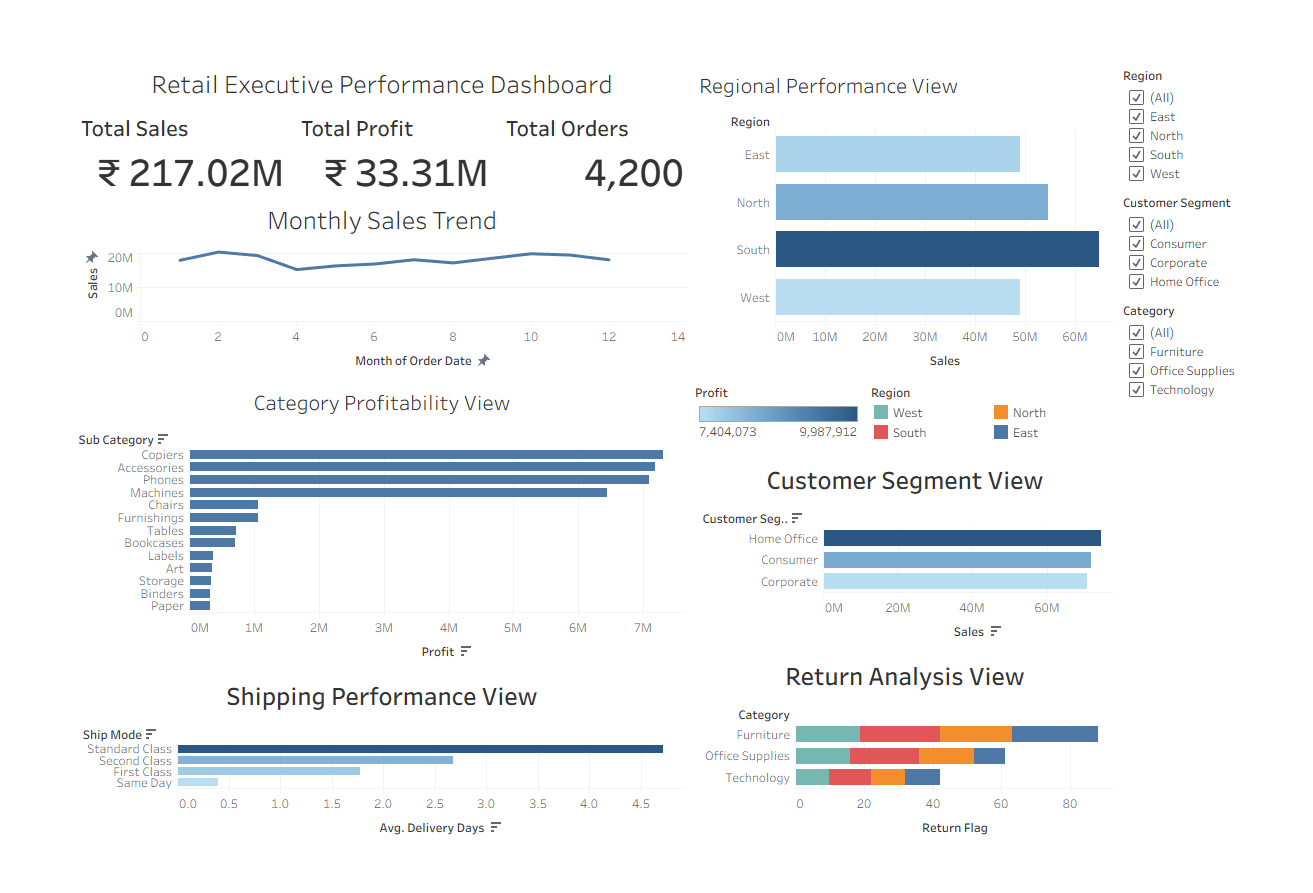

The dashboard page shown, as its layout file describes it:
{"tool":"tableau","page":{"name":"Dashboard 1","canvas":[1000,1000],"units":"permille","ordinal":0},"visuals":[{"type":"title","box":[6.7,10,844.2,48.8]},{"type":"filter","title":"Regional Performance View","param":"[federated.1ubus5j0cay6a9157hhae0eafcrc].[none:region:nk]","box":[850.8,10,142.5,158.8]},{"type":"worksheet","title":"KPI - Total Sales","mark":"Automatic","box":[6.7,58.8,173.3,148.8]},{"type":"worksheet","title":"KPI - Total Profit","mark":"Automatic","box":[180,58.8,153.3,148.8]},{"type":"worksheet","title":"KPI - Total Orders","mark":"Automatic","box":[333.3,58.8,147.3,148.8]},{"type":"worksheet","title":"Regional Performance View","mark":"Automatic","rows":["region"],"cols":["sales"],"box":[480.7,58.8,370.2,273.8]},{"type":"filter","title":"Category Profitability View","param":"[federated.1ubus5j0cay6a9157hhae0eafcrc].[none:category:nk]","box":[850.8,168.8,142.5,135]},{"type":"worksheet","title":"Sales Trend View","mark":"Automatic","rows":["sales"],"cols":["order_date"],"box":[6.7,207.5,474,186.2]},{"type":"filter","title":"Customer Segment View","param":"[federated.1ubus5j0cay6a9157hhae0eafcrc].[none:customer_segment:nk]","box":[850.8,303.8,142.5,135]},{"type":"legend","title":"Shipping Performance View","param":"[federated.1ubus5j0cay6a9157hhae0eafcrc].[sum:profit:qk]","box":[480.7,332.5,370.2,101.2]},{"type":"worksheet","title":"Category Profitability View","mark":"Automatic","rows":["sub_category"],"cols":["profit"],"box":[6.7,393.8,474,322.5]},{"type":"worksheet","title":"Customer Segment View","mark":"Bar","rows":["customer_segment"],"cols":["sales"],"box":[480.7,433.8,370.2,252.5]},{"type":"worksheet","title":"Return Analysis View","mark":"Bar","rows":["category"],"cols":["return_flag"],"box":[480.7,686.2,370.2,233.8]},{"type":"worksheet","title":"Shipping Performance View","mark":"Automatic","rows":["ship_mode"],"cols":["delivery_days"],"box":[6.7,716.2,474,273.8]},{"type":"legend","title":"Return Analysis View","param":"[federated.1ubus5j0cay6a9157hhae0eafcrc].[none:region:nk]","box":[480.7,920,370.2,70]}]}

Visuals, with their boxes on the dashboard's canvas, which has no fixed pixel size, in thousandths of its width and height (x1, y1, x2, y2). These are canvas units, not pixel positions in the 1313x893 screenshot, which may show the page scaled, cropped or inside an application window:
title: 7/10/851/59
"Regional Performance View" filter: 851/10/993/169
"KPI - Total Sales" worksheet: 7/59/180/208
"KPI - Total Profit" worksheet: 180/59/333/208
"KPI - Total Orders" worksheet: 333/59/481/208
"Regional Performance View" worksheet: 481/59/851/333
"Category Profitability View" filter: 851/169/993/304
"Sales Trend View" worksheet: 7/208/481/394
"Customer Segment View" filter: 851/304/993/439
"Shipping Performance View" legend: 481/332/851/434
"Category Profitability View" worksheet: 7/394/481/716
"Customer Segment View" worksheet (Bar marks): 481/434/851/686
"Return Analysis View" worksheet (Bar marks): 481/686/851/920
"Shipping Performance View" worksheet: 7/716/481/990
"Return Analysis View" legend: 481/920/851/990
